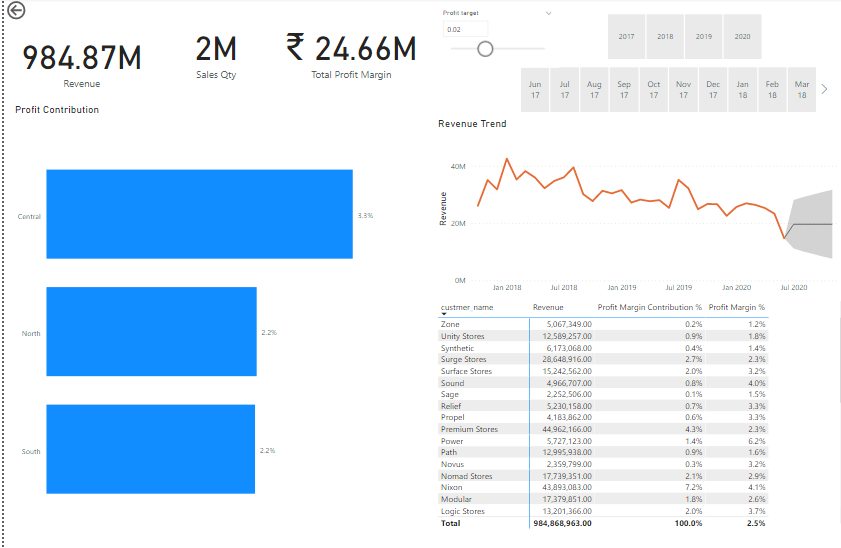

This screenshot's page, from the dashboard's own definition file:
{"tool":"powerbi","page":{"name":"Performance Insights","canvas":[1380,900],"ordinal":2},"visuals":[{"type":"card","fields":{"Values":["BaseMeasure.Revenue"]},"box":[0,0,253.5,201],"z":0},{"type":"card","fields":{"Values":["BaseMeasure.Sales Qty"]},"box":[237.2,0,219.1,172],"z":1000},{"type":"barChart","title":"Profit Contribution","fields":{"Category":["sales markets.zone","sales markets.markets_name","sales customers.custmer_name","sales products.product_code"],"Y":["BaseMeasure.Profit Margin %"]},"box":[12.7,172,677.3,728],"z":2000},{"type":"slicer","fields":{"Values":["sales date.year"]},"box":[959.8,19.9,300.6,86.9],"z":3000},{"type":"slicer","fields":{"Values":["sales date.cy_date"]},"box":[818.6,106.9,532.4,86.9],"z":4000},{"type":"pivotTable","fields":{"Rows":["sales customers.custmer_name"],"Values":["BaseMeasure.Revenue","BaseMeasure.Profit Margin Contribution %","BaseMeasure.Profit Margin %"]},"box":[704.5,490.8,675.5,382.1],"z":5000},{"type":"actionButton","box":[0,0,100,40],"z":6000},{"type":"lineChart","title":"Revenue Trend","fields":{"Y":["BaseMeasure.Revenue"],"Category":["sales date.cy_date"]},"box":[704.5,193.8,675.5,297],"z":7000},{"type":"card","fields":{"Values":["BaseMeasure.Total Profit Margin"]},"box":[429.2,0,275.3,172],"z":8000},{"type":"slicer","fields":{"Values":["Profit target.Profit target"]},"box":[704.5,12.7,202.8,101.4],"z":9000}]}

Visuals, with their boxes in screenshot pixels (x1, y1, x2, y2), scaled from the page's 1380x900 canvas onto the 841x548 screenshot:
card - BaseMeasure.Revenue: BBox(0, 0, 154, 122)
card - BaseMeasure.Sales Qty: BBox(145, 0, 278, 105)
"Profit Contribution" barChart: BBox(8, 105, 420, 547)
slicer - sales date.year: BBox(585, 12, 768, 65)
slicer - sales date.cy_date: BBox(499, 65, 823, 118)
pivotTable - sales customers.custmer_name x BaseMeasure.Revenue: BBox(429, 299, 840, 531)
actionButton: BBox(0, 0, 61, 24)
"Revenue Trend" lineChart: BBox(429, 118, 840, 299)
card - BaseMeasure.Total Profit Margin: BBox(262, 0, 429, 105)
slicer - Profit target.Profit target: BBox(429, 8, 553, 69)
